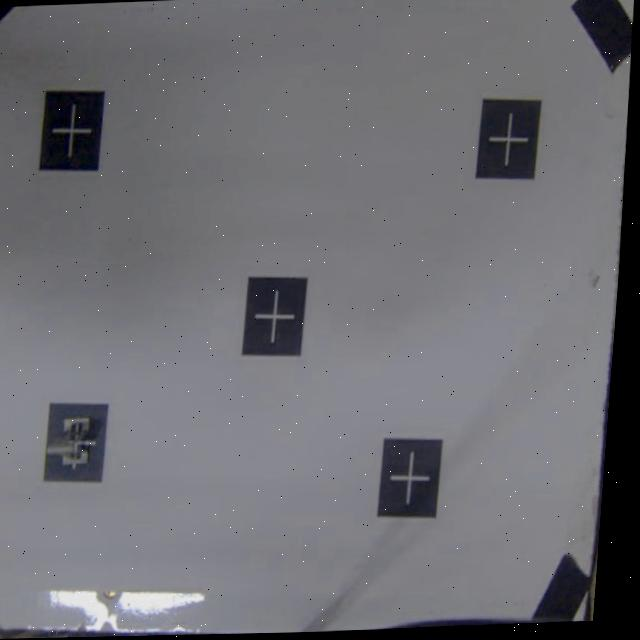pick1: (42, 400, 111, 481)
